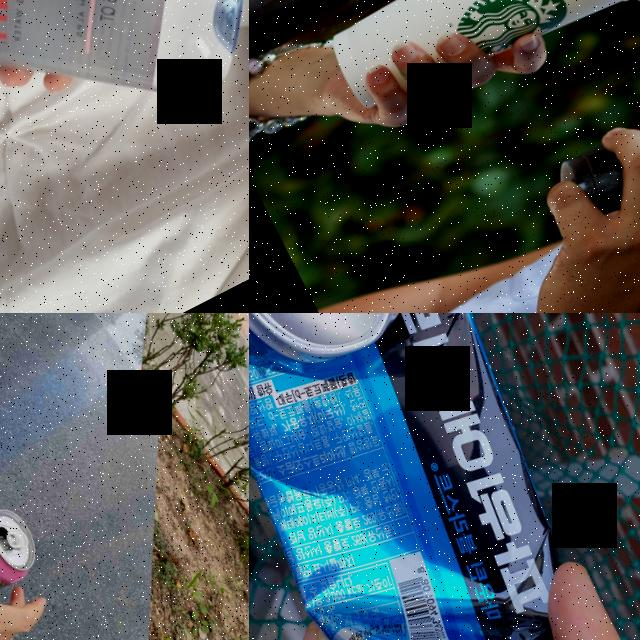bottle: (0, 0, 249, 267)
can: (0, 495, 49, 613)
cup: (314, 0, 640, 137), (549, 42, 640, 301)
